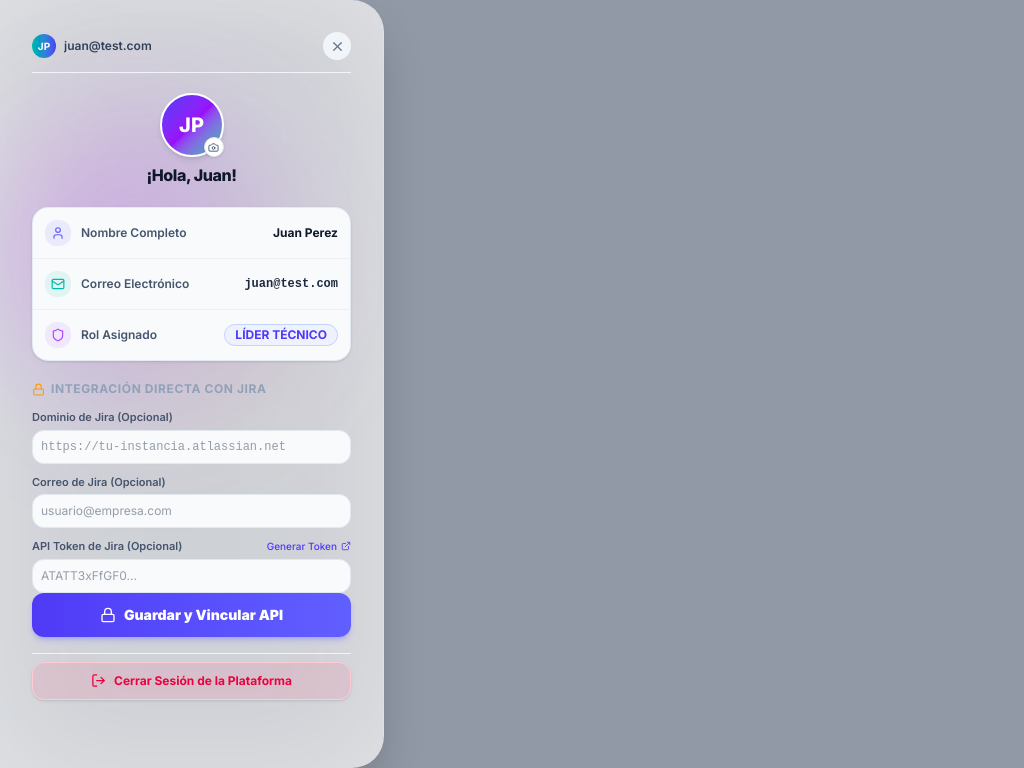
Scenario: ProfileSettingsModal › handles jira credentials error
This screenshot has width=1024, height=768.
Click the button "Guardar y Vincular API". click: (192, 614)
box: [32,592,351,636]
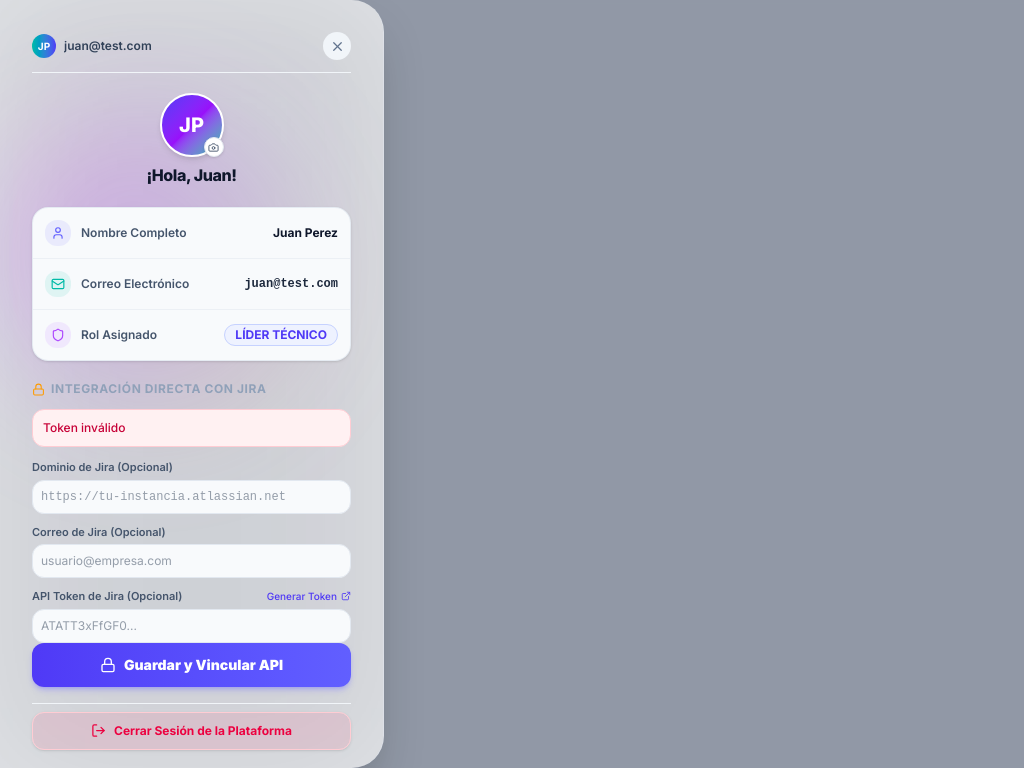
Check: the text "Token inválido" is shown, box [32,409,351,447]
